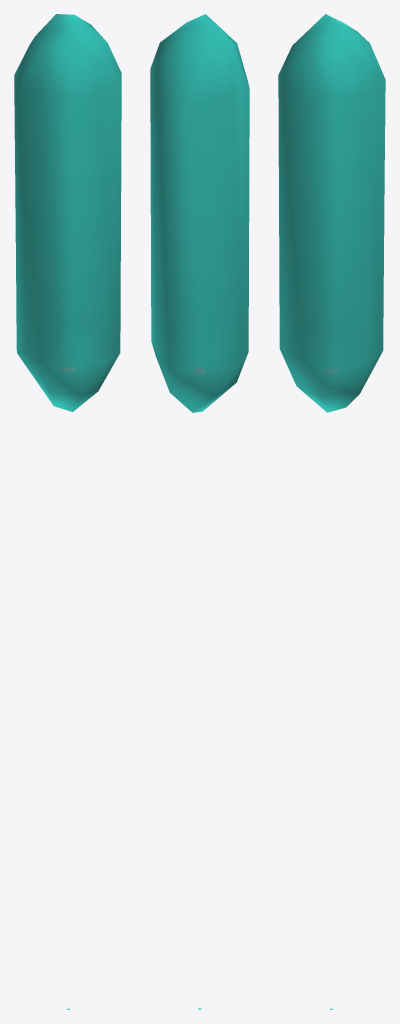
The picture shows the model from 3 angles, left to right: view 1: azimuth 90°, elevation 25°; view 2: azimuth 150°, elevation 25°; view 3: azimuth 270°, elevation 25°; orthographic projection.
Parts seen in each view (by area): view 1: Liquid_Domain; view 2: Liquid_Domain; view 3: Liquid_Domain.
Boxes of the visible parts, x1,y1,x2,y2 form: Liquid_Domain: [14, 14, 121, 411]; Liquid_Domain: [150, 14, 249, 412]; Liquid_Domain: [278, 14, 385, 412].
Bounding box in the file's own units: 125 × 1301 × 127.
